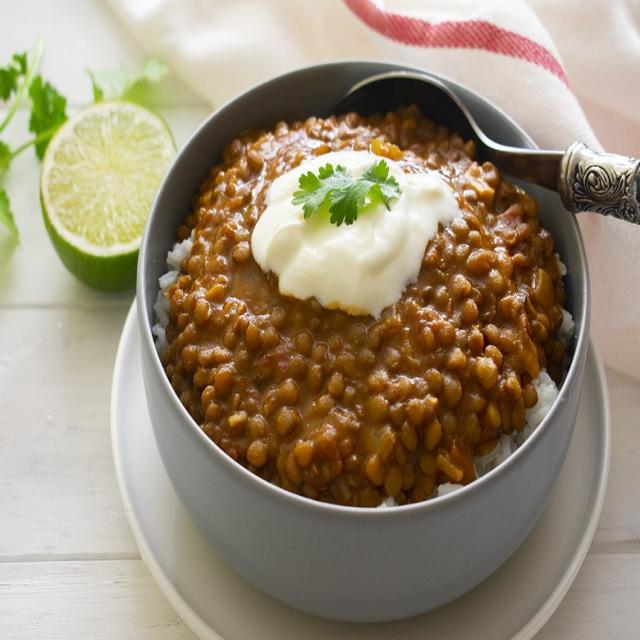lentejas: (181, 99, 574, 498)
